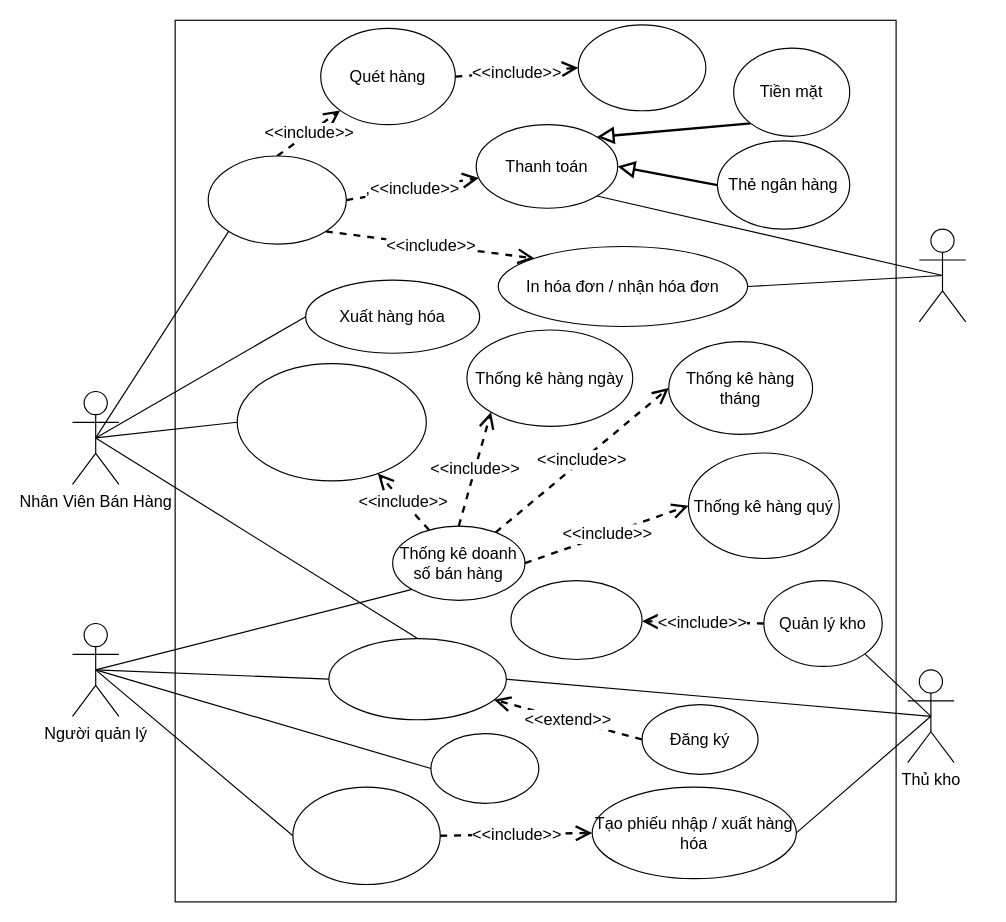
This 1006x922 diagram has some shape labels left out. Here are the shapes that lost their labels. From the top down, the centre of each, then its label:
the point at 641,67: Truy xuất hàng hóa
the point at 276,199: Xư lý thanh toán
the point at 942,275: Khách hàng
the point at 331,421: Báo cáo bán hàng hàng ngày
the point at 576,619: Kểm kê hàng hóa
the point at 417,678: Đăng nhập / đăng xuất
the point at 484,768: Quản lý nhân viên
the point at 366,835: Quản lý nhập / xuất hàng hóa
